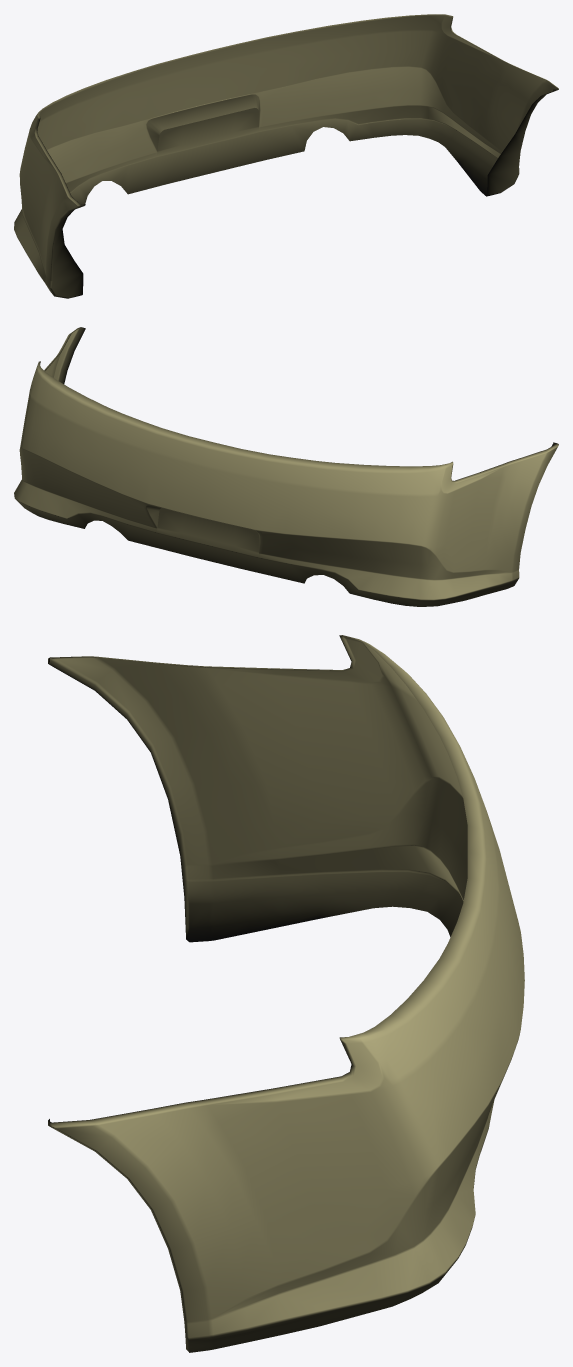
File: G37_RB_03_Duco.fbx
The picture shows the model from 3 angles, top to bottom: view 1: azimuth 30°, elevation 25°; view 2: azimuth 150°, elevation 25°; view 3: azimuth 270°, elevation 25°; orthographic projection. The views are drawn at different scales.
Visible parts, largest first — view 1: G37_RB_03_Duco; view 2: G37_RB_03_Duco; view 3: G37_RB_03_Duco.
Part boxes in pixels (bbox=[...]): G37_RB_03_Duco: bbox=[14, 14, 558, 298]; G37_RB_03_Duco: bbox=[14, 327, 558, 606]; G37_RB_03_Duco: bbox=[48, 635, 524, 1352].
Bounding box in the file's own units: 183 × 55.08 × 78.5.
